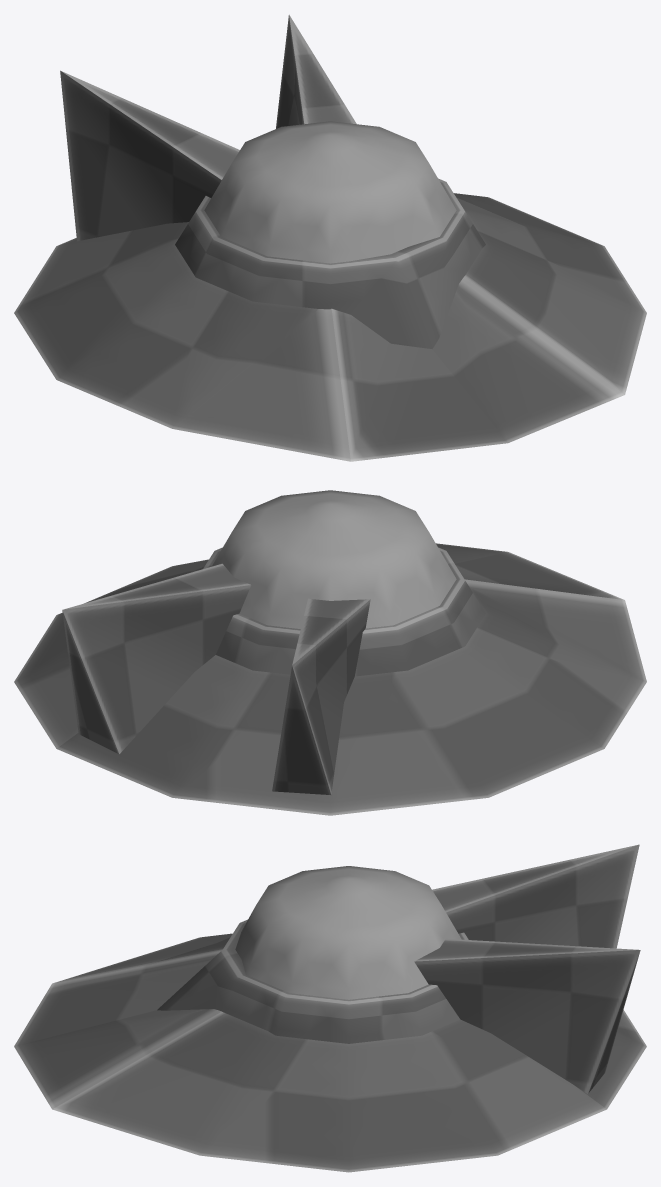
File: flyingSaucer2084.FBX
The picture shows the model from 3 angles, top to bottom: view 1: azimuth 30°, elevation 25°; view 2: azimuth 150°, elevation 25°; view 3: azimuth 270°, elevation 25°; orthographic projection. The views are drawn at different scales.
Visible parts, largest first — view 1: flyingSaucer; view 2: flyingSaucer; view 3: flyingSaucer.
Part boxes in pixels (x1,y1,x2,y2): flyingSaucer: [14, 14, 646, 461]; flyingSaucer: [14, 490, 646, 815]; flyingSaucer: [14, 844, 646, 1172].
Bounding box in the file's own units: 107 × 33.25 × 114.
